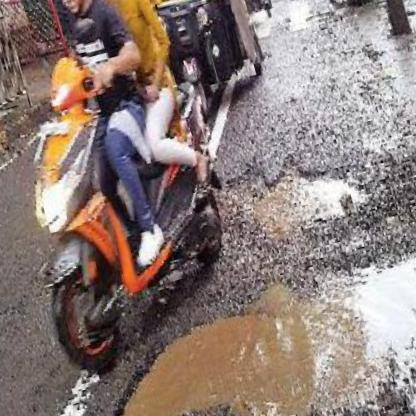pothole: (104, 244, 416, 416), (238, 138, 376, 244)
